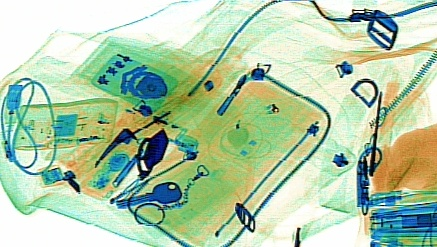lighter: (119, 99, 199, 154)
